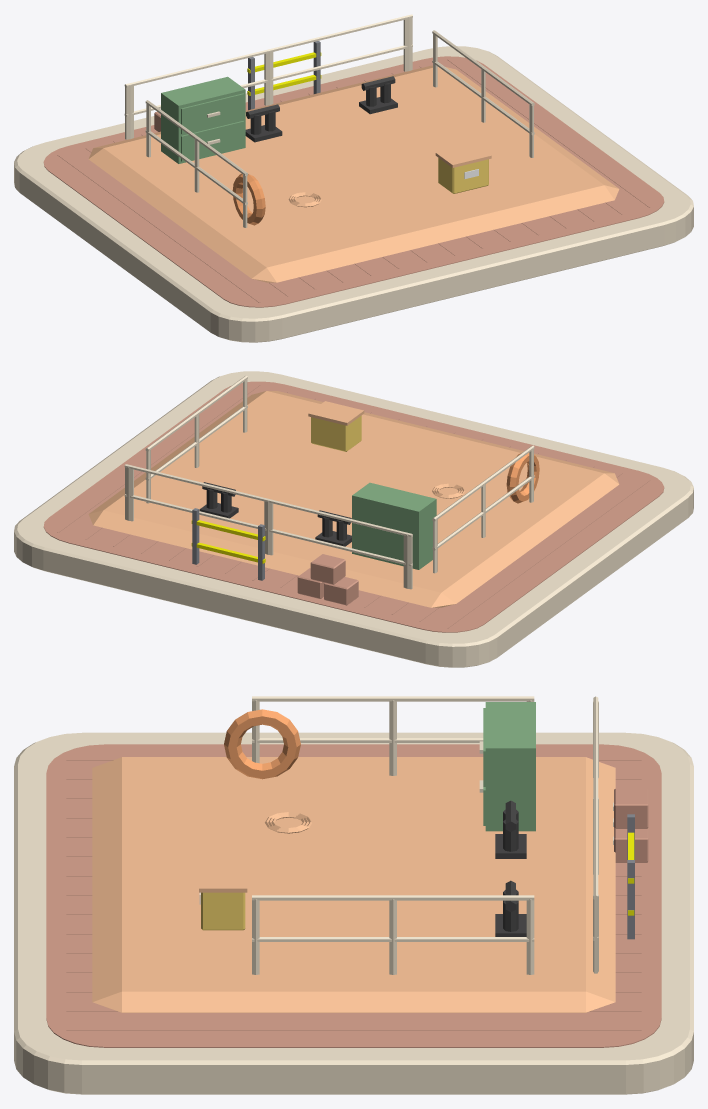
File: room.fbx
3 renders of one model, top to bottom at view 1: azimuth 30°, elevation 25°; view 2: azimuth 150°, elevation 25°; view 3: azimuth 270°, elevation 25°, orthographic. The views are drawn at different scales.
Parts seen in each view (by area): view 1: Deck, COM-01 Rounded Base Direct, COM-02 Floor Surface, Cabinet, Box, Rail.005, Life ring, Lid, Rail.004, Rail.003, Rail.001, Rail.002 (+3 smaller); view 2: Deck, COM-01 Rounded Base Direct, COM-02 Floor Surface, Cabinet, Box, Rail.005, Rail.004, Life ring, Stacked case.002, Lid, Stacked case, Stacked case.001 (+7 smaller); view 3: Deck, COM-01 Rounded Base Direct, COM-02 Floor Surface, Cabinet, Life ring, Box, Rail.001, Rail.003, Lid, Rail.002, Stacked case.002, Rail.005 (+3 smaller).
Boxes of the visible parts, x1=… form: Deck: x1=88, y1=65, x2=619, y2=282; COM-01 Rounded Base Direct: x1=14, y1=46, x2=693, y2=342; COM-02 Floor Surface: x1=43, y1=56, x2=664, y2=307; Cabinet: x1=161, y1=76, x2=245, y2=163; Box: x1=438, y1=158, x2=488, y2=193; Rail.005: x1=124, y1=14, x2=412, y2=87; Life ring: x1=232, y1=173, x2=265, y2=225; Lid: x1=435, y1=143, x2=491, y2=167; Rail.004: x1=124, y1=44, x2=412, y2=116; Rail.003: x1=432, y1=30, x2=534, y2=106; Rail.001: x1=145, y1=100, x2=247, y2=176; Rail.002: x1=432, y1=60, x2=534, y2=135; Deck: x1=88, y1=391, x2=619, y2=607; COM-01 Rounded Base Direct: x1=14, y1=371, x2=693, y2=667; COM-02 Floor Surface: x1=43, y1=381, x2=664, y2=632; Cabinet: x1=352, y1=482, x2=436, y2=569; Box: x1=311, y1=415, x2=361, y2=451; Rail.005: x1=124, y1=464, x2=412, y2=537; Rail.004: x1=124, y1=494, x2=412, y2=566; Life ring: x1=506, y1=453, x2=539, y2=503; Stacked case.002: x1=310, y1=554, x2=345, y2=584; Lid: x1=308, y1=401, x2=364, y2=425; Stacked case: x1=324, y1=577, x2=358, y2=605; Stacked case.001: x1=297, y1=568, x2=324, y2=598; Deck: x1=92, y1=757, x2=615, y2=1012; COM-01 Rounded Base Direct: x1=14, y1=732, x2=693, y2=1094; COM-02 Floor Surface: x1=46, y1=744, x2=661, y2=1047; Cabinet: x1=479, y1=702, x2=535, y2=831; Life ring: x1=224, y1=709, x2=300, y2=779; Box: x1=201, y1=892, x2=245, y2=930; Rail.001: x1=252, y1=696, x2=534, y2=701; Rail.003: x1=252, y1=895, x2=534, y2=900; Lid: x1=199, y1=861, x2=247, y2=892; Rail.002: x1=252, y1=937, x2=534, y2=941; Stacked case.002: x1=614, y1=788, x2=648, y2=828; Rail.005: x1=593, y1=696, x2=598, y2=900.
Size of the model in its own units: 600 by 118 by 520.
